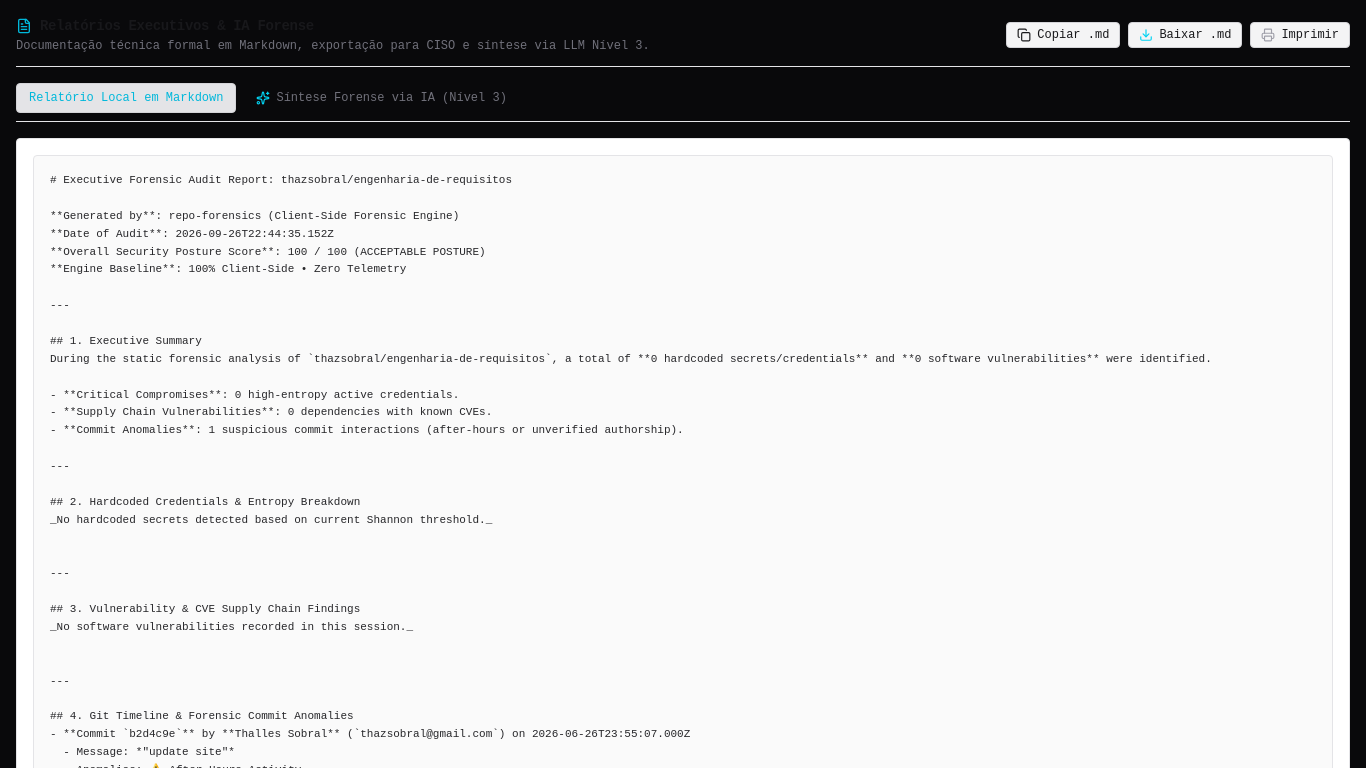
it: ReportsView and AI Key Guardrail (ReportsView.test.tsx) › generates AI report based on real repository data without hallucinations
// Switch to AI tab
Click the button "Síntese Forense via IA (Nível 3)" at (382, 98), box [244,84,519,112]
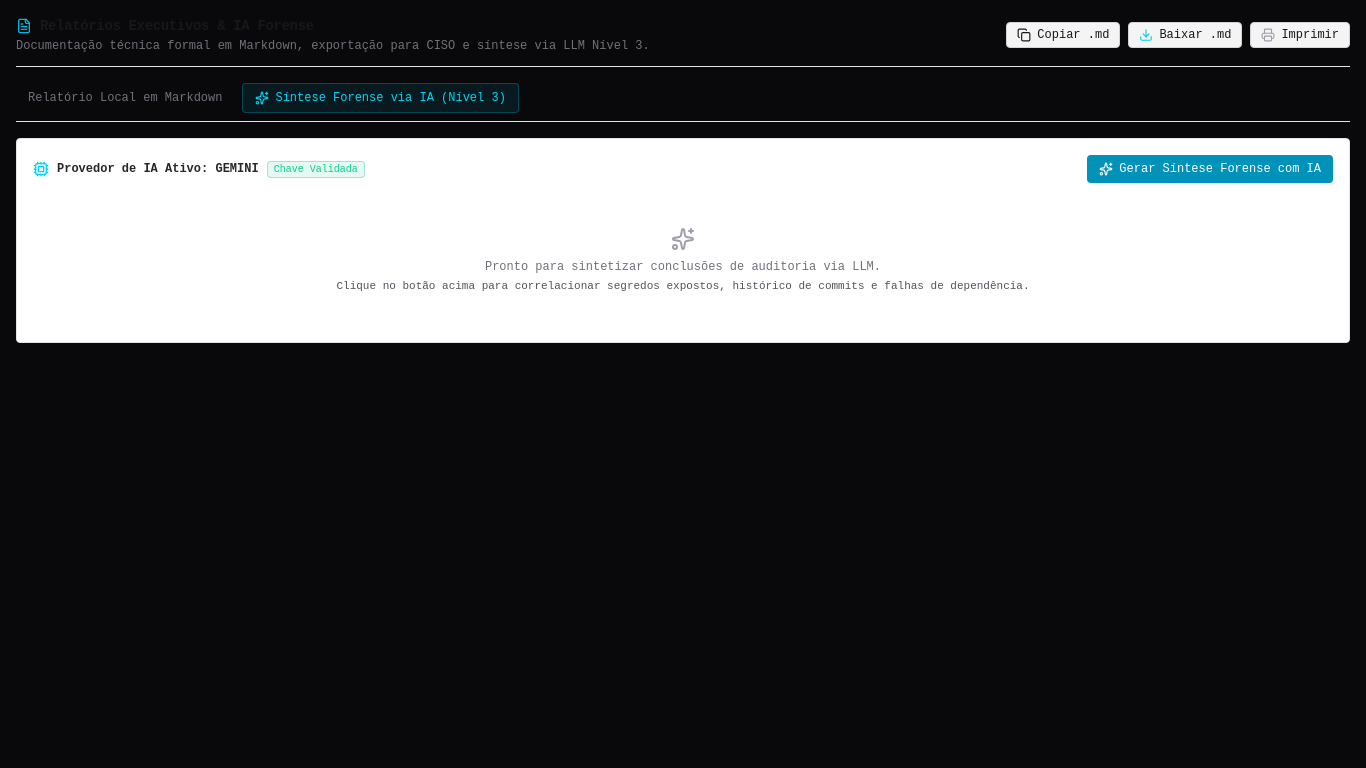
// Click generate button
Click the button "Gerar Síntese Forense com IA" at (1210, 169), box [1087,155,1333,183]
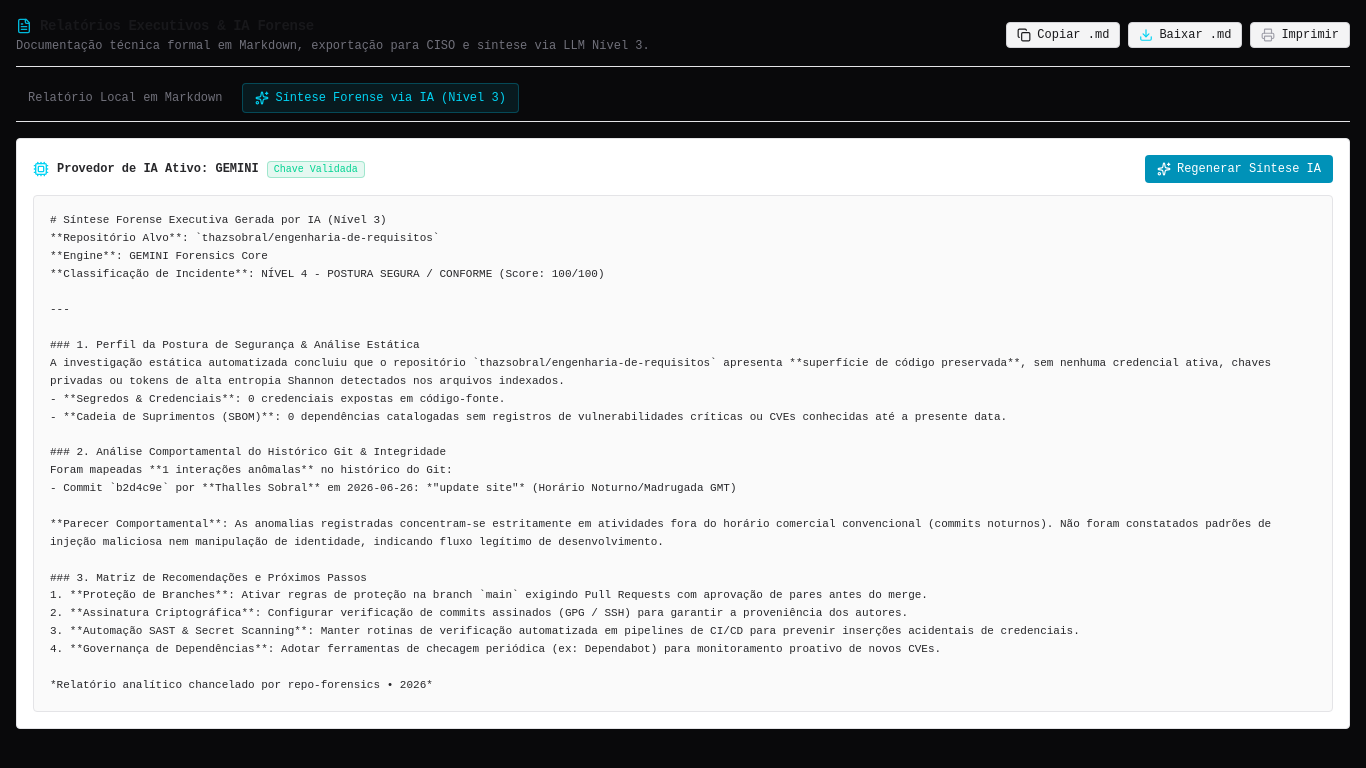
Now the text with test id "ai-report-content" shows "thazsobral/engenharia-de-requisitos", box [50,214,1278,691]
Now the text with test id "ai-report-content" shows "Score: 100/100", box [50,214,1278,691]
